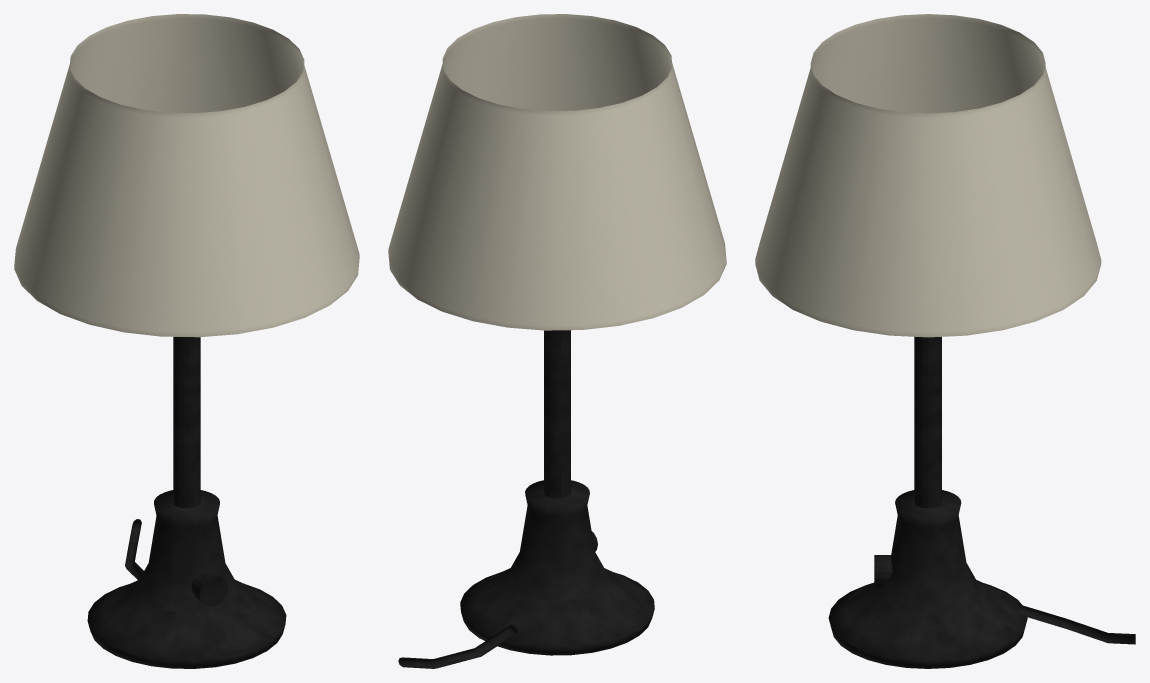
Rendered from PRP_TableLamp_Intact.fbx.
3 views of the same model, side by side, from view 1: azimuth 30°, elevation 25°; view 2: azimuth 150°, elevation 25°; view 3: azimuth 270°, elevation 25° (orthographic). The views are drawn at different scales.
Visible parts, largest first — view 1: Lamp_Shade, Lamp_Base, Lamp_Switch, Lamp_Cord; view 2: Lamp_Shade, Lamp_Base, Lamp_Cord; view 3: Lamp_Shade, Lamp_Base, Lamp_Cord.
Boxes of the visible parts, <box> form: Lamp_Shade: <box>14,14,359,337</box>; Lamp_Base: <box>87,337,286,668</box>; Lamp_Switch: <box>191,570,228,606</box>; Lamp_Cord: <box>125,519,143,579</box>; Lamp_Shade: <box>388,14,726,330</box>; Lamp_Base: <box>460,330,654,655</box>; Lamp_Cord: <box>398,624,517,668</box>; Lamp_Shade: <box>755,14,1101,337</box>; Lamp_Base: <box>828,336,1027,668</box>; Lamp_Cord: <box>1018,604,1135,644</box>.
Bounding box in the file's own units: 25 × 45 × 27.5.
